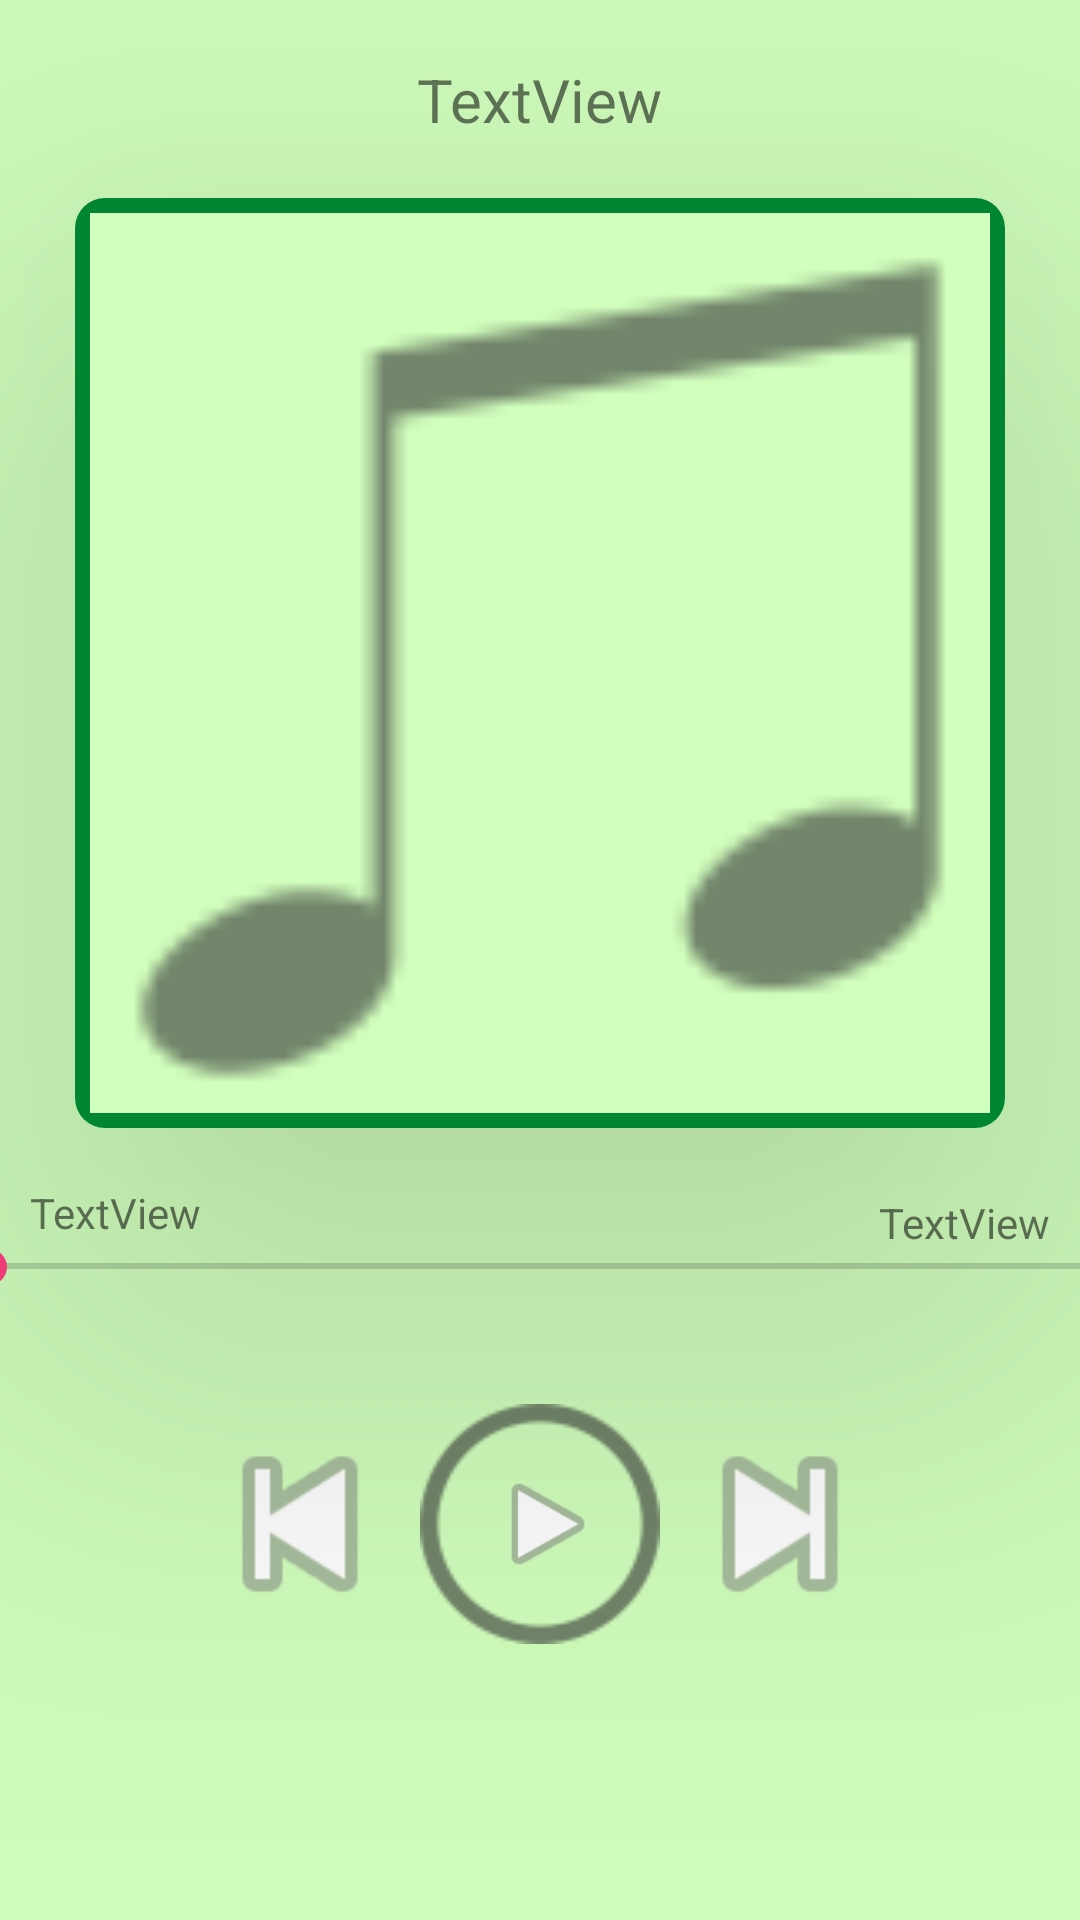

Named icons in this screenshot (1080*1920) and their centers, (x,y):
next: (780,1524)
previous: (300,1524)
